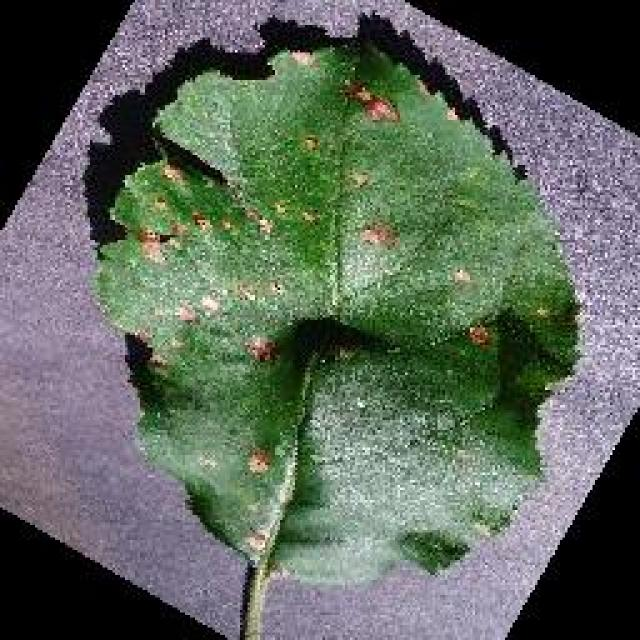Black_rot: (88, 35, 582, 590)
